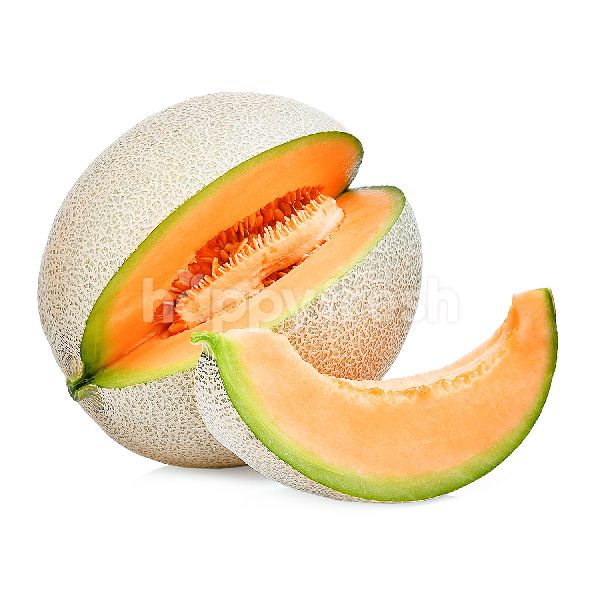Melon: (164, 265, 573, 529)
